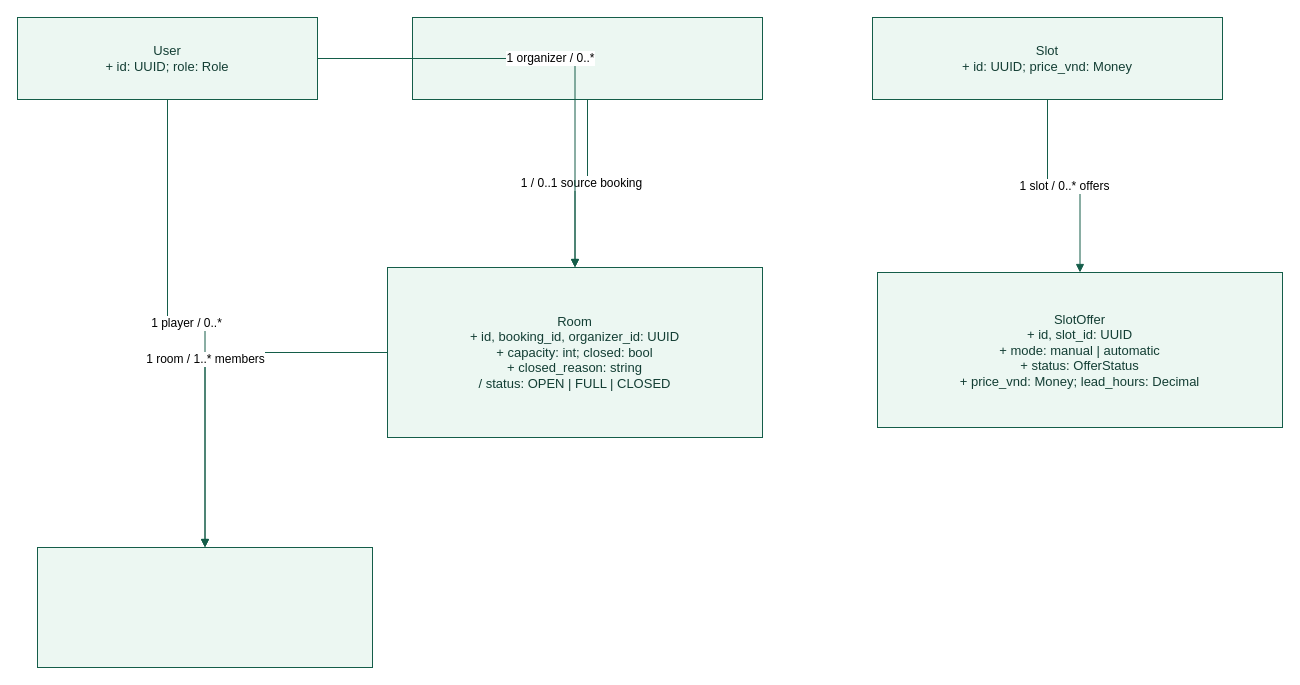
Some shapes in this 1300 by 685 pixel diagram are drawn without their labels. Here are the shapes that lost their labels. From the top down, the centre of each, then its label:
At (x=587, y=58): "Booking + id: UUID; status: BookingStatus".
At (x=204, y=607): "RoomMember + room_id, player_id: UUID + joined_at: Instant".
